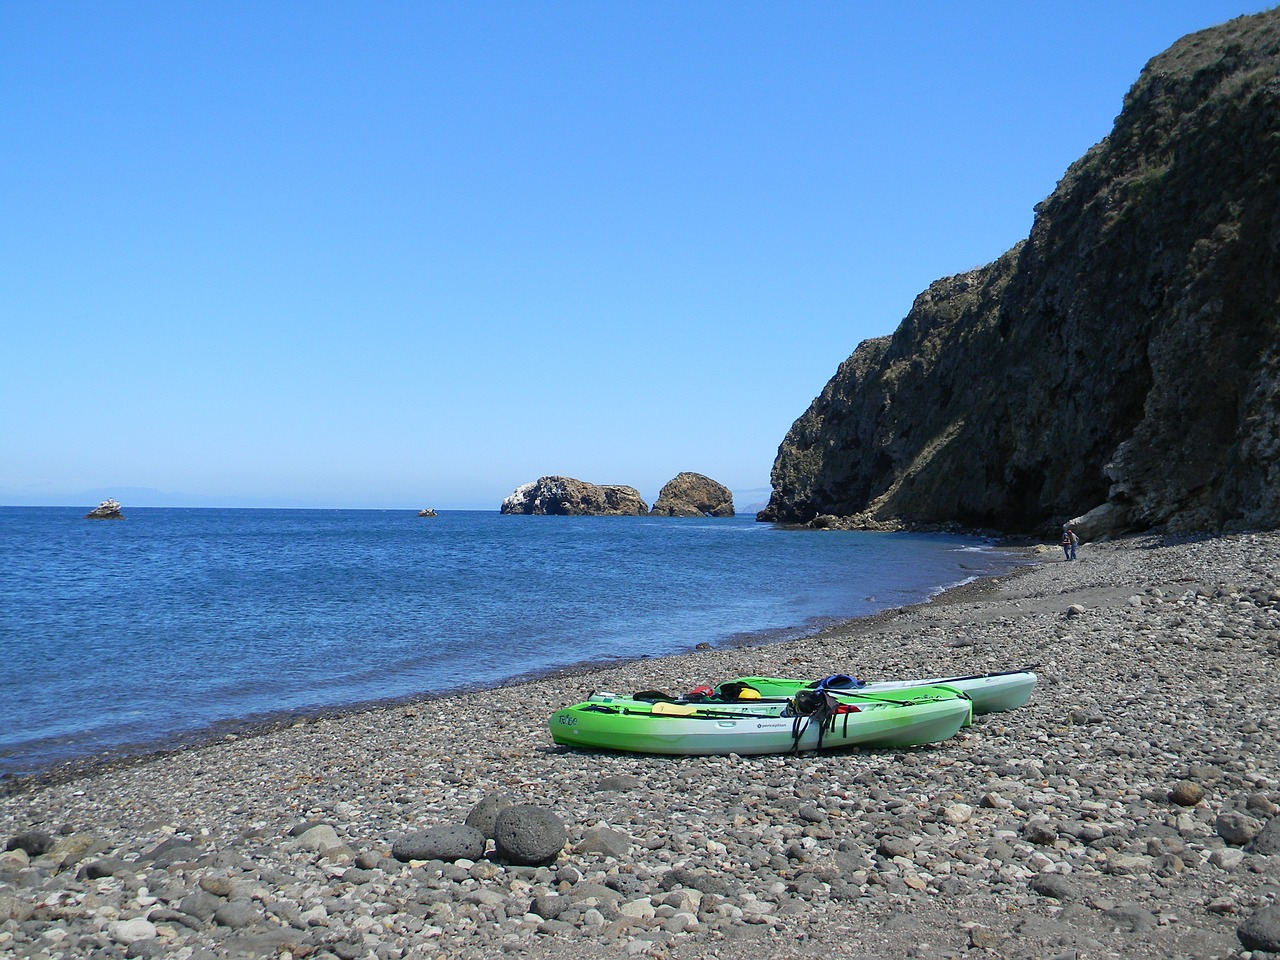kayak: (542, 690, 976, 759)
